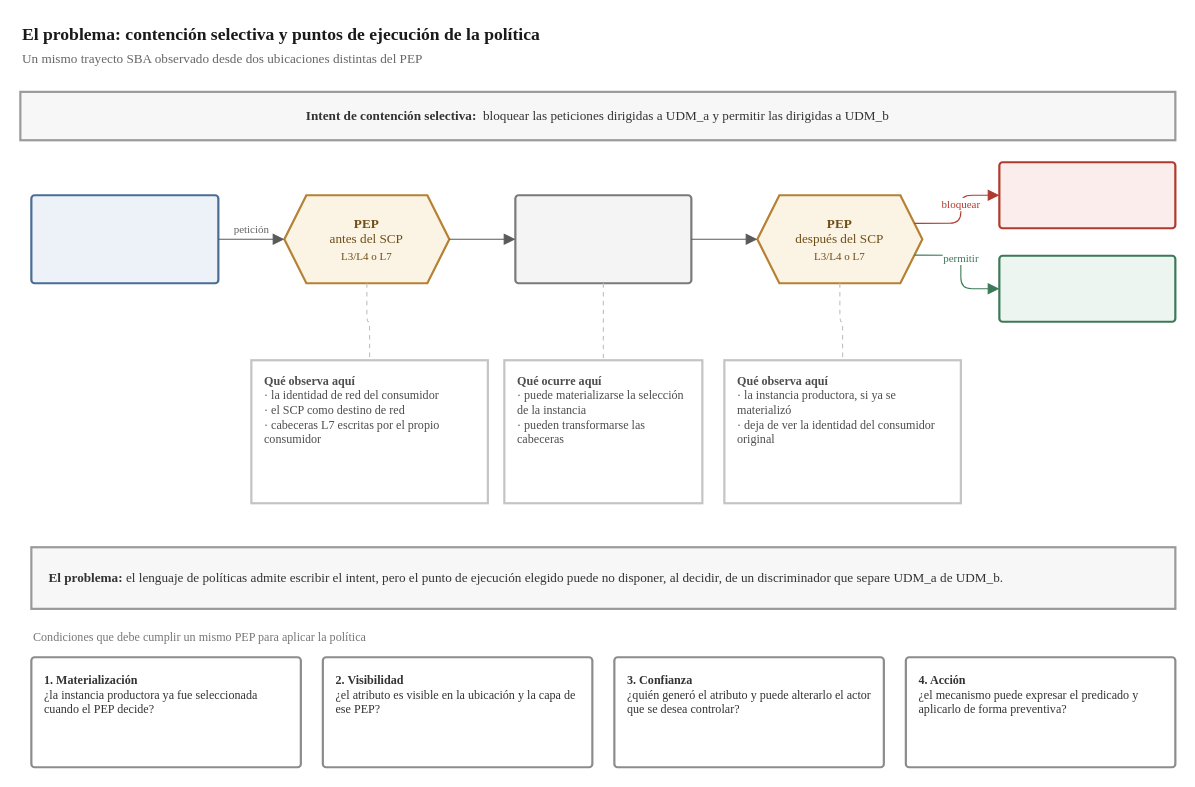
This 1195x787 diagram has some shape labels left out. The centre of each missing label's shape, as x and y in pixels:
"NF consumidora escribe las cabeceras de sus propias peticiones" goes at (x=124, y=239).
"SCP enrutamiento, selección y contexto de la asociación" goes at (x=603, y=239).
"UDM_a destino que debe bloquearse" goes at (x=1087, y=195).
"UDM_b destino permitido" goes at (x=1087, y=288).
